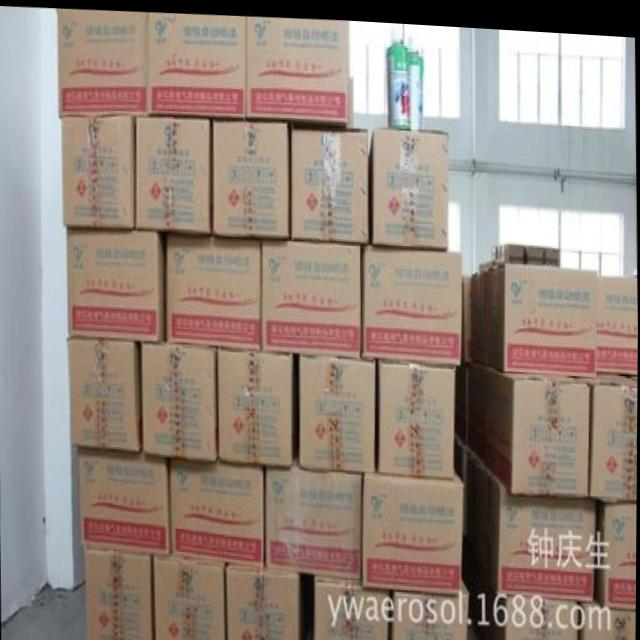box: (486, 462, 596, 595), (479, 256, 597, 369), (361, 467, 464, 590), (490, 364, 590, 487), (362, 239, 462, 359), (262, 237, 361, 354), (67, 224, 165, 340), (167, 230, 261, 347), (246, 13, 347, 121), (267, 462, 362, 573), (169, 453, 263, 565), (147, 11, 246, 115), (77, 445, 171, 554), (57, 7, 148, 115), (369, 124, 449, 243), (291, 122, 369, 239), (217, 344, 293, 463), (142, 339, 218, 457), (299, 350, 375, 468), (213, 116, 289, 233), (379, 356, 455, 472), (135, 115, 210, 231), (68, 337, 142, 449), (574, 364, 638, 491), (61, 115, 134, 225), (85, 546, 153, 640), (154, 553, 226, 640), (227, 561, 299, 640), (391, 571, 469, 640), (315, 570, 389, 640), (597, 491, 637, 601), (596, 268, 637, 366), (506, 590, 578, 640), (581, 588, 637, 640)
